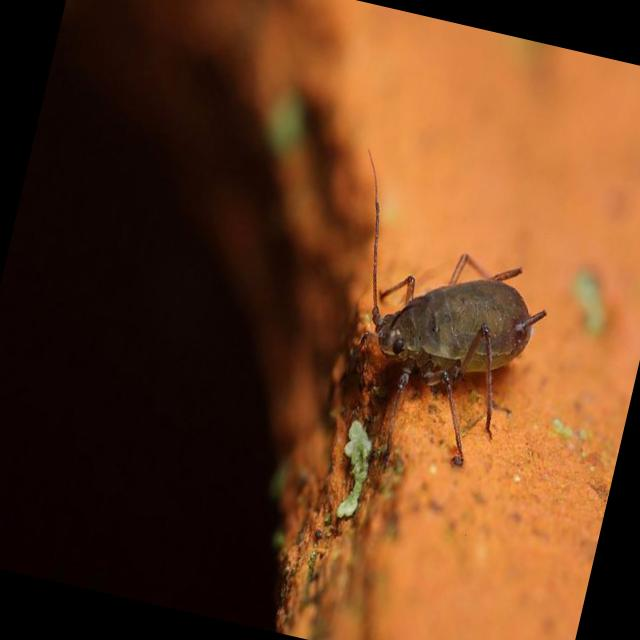Aphids: (274, 178, 594, 496)
